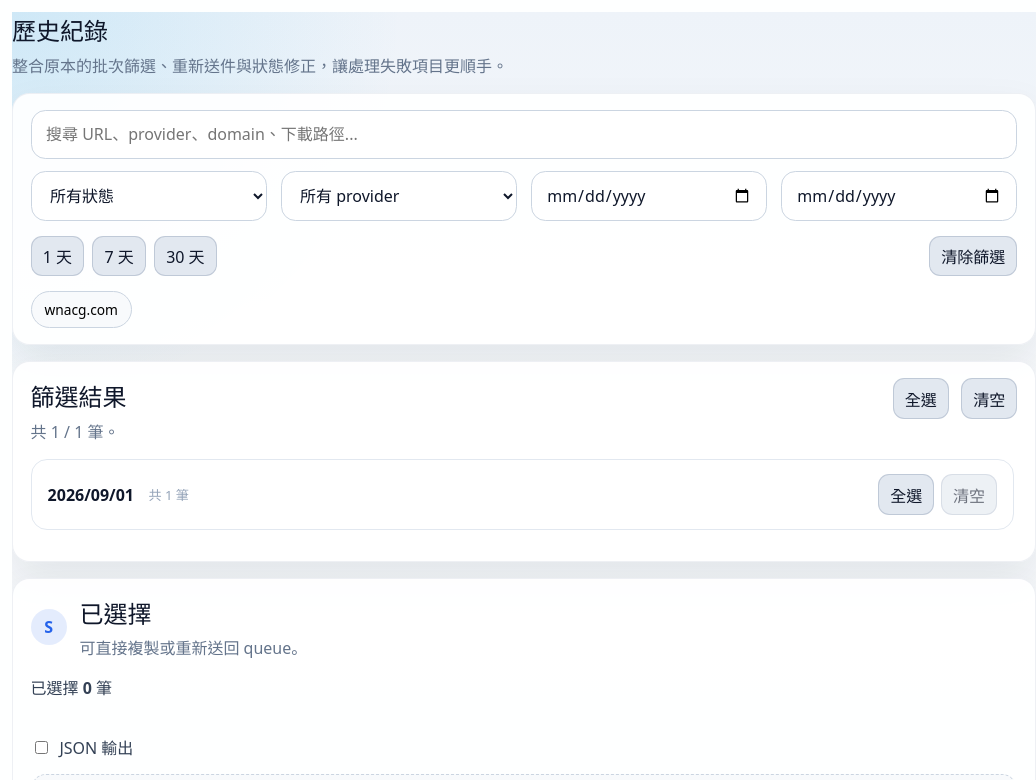
Test: HistoryView › renders the wnacg failure reason for a failed history entry
Click the heading "2026/09/01 共 1 筆 全選 清空" at (91, 495), box [48,474,997,515]
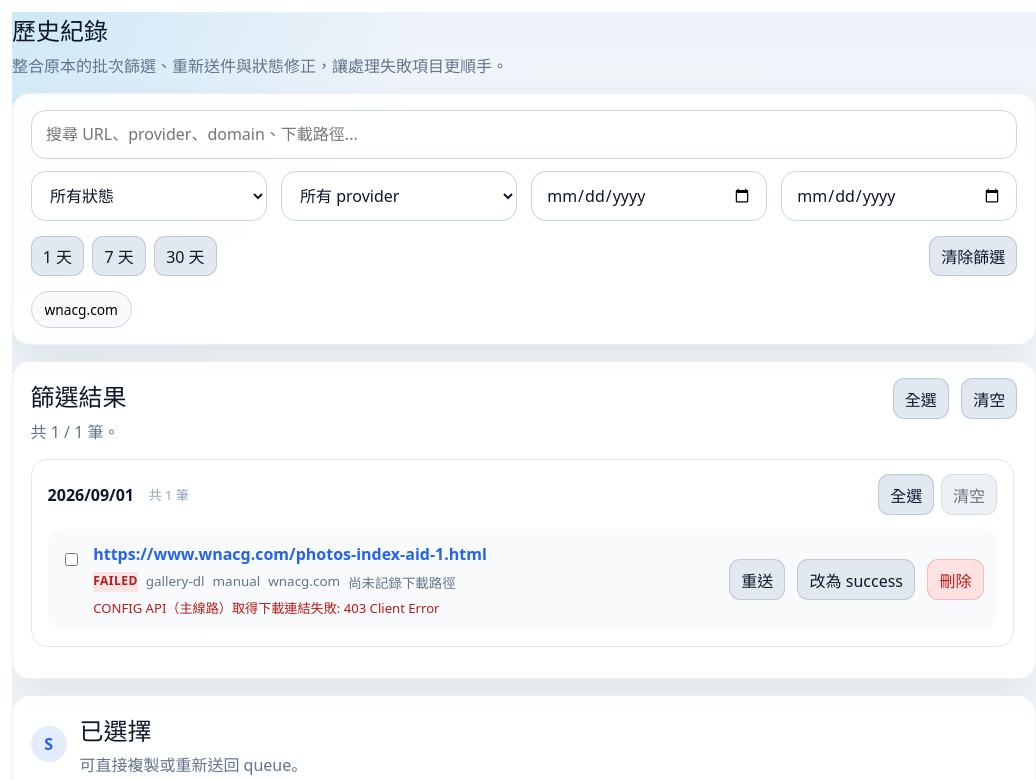
Now the text "CONFIG API（主線路）取得下載連結失敗: 403 Client Error" is shown, box [93,598,440,616]
